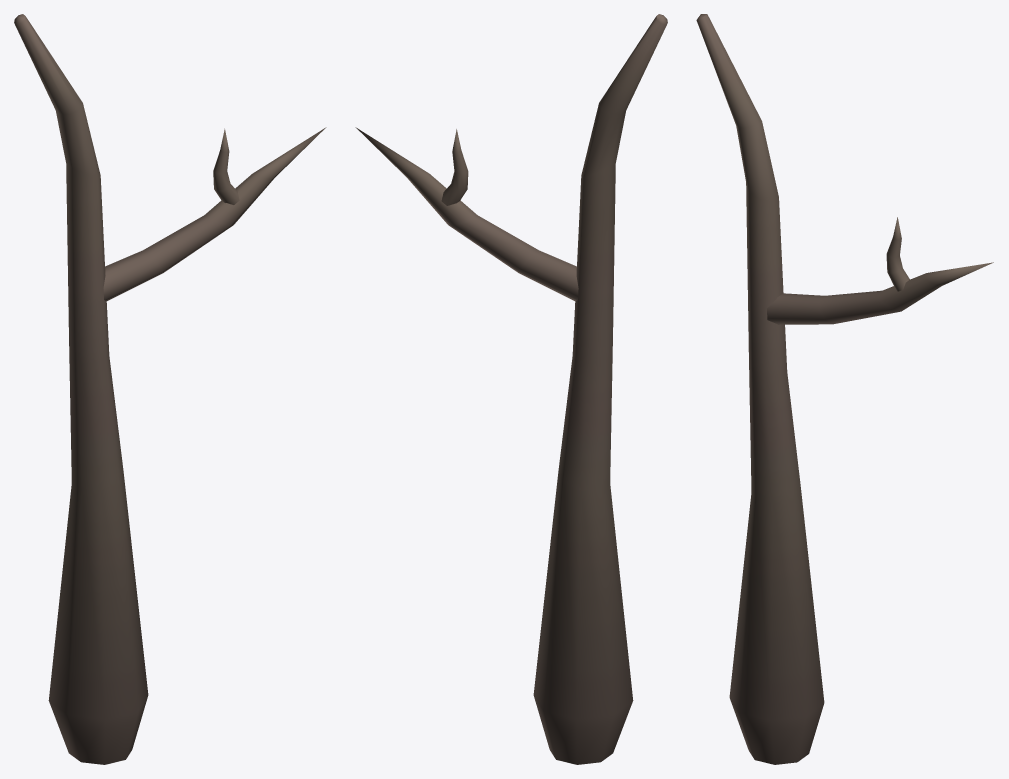
File: tree_dead_medium.glb
The picture shows the model from 3 angles, left to right: view 1: azimuth 30°, elevation 25°; view 2: azimuth 150°, elevation 25°; view 3: azimuth 330°, elevation 25°; orthographic projection. The views are drawn at different scales.
Visible parts, largest first — view 1: tree_dead_medium; view 2: tree_dead_medium; view 3: tree_dead_medium.
Boxes of the visible parts, x1,y1,x2,y2 form: tree_dead_medium: (14,14,326,764); tree_dead_medium: (355,14,667,764); tree_dead_medium: (696,14,993,764).
Size of the model in its own units: 1.81 by 4.19 by 0.4667.
Materials: 1 (1 with a texture image).
